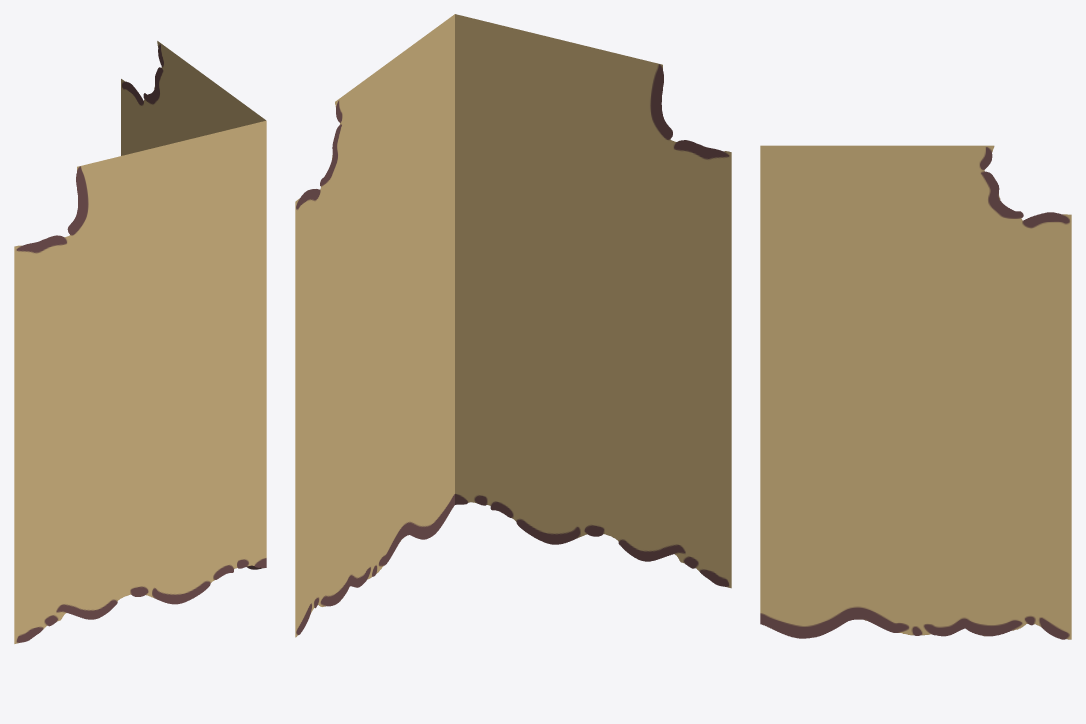
Rendered from Fence_RF_20143_04.fbx.
3 views of the same model, side by side, from view 1: azimuth 30°, elevation 25°; view 2: azimuth 150°, elevation 25°; view 3: azimuth 270°, elevation 25° (orthographic). The views are drawn at different scales.
Parts seen in each view (by area): view 1: Fence_RF_20143_04; view 2: Fence_RF_20143_04; view 3: Fence_RF_20143_04.
Part boxes in pixels (x1,y1,x2,y2): Fence_RF_20143_04: [14, 41, 266, 643]; Fence_RF_20143_04: [295, 14, 731, 637]; Fence_RF_20143_04: [760, 145, 1071, 639].
Size of the model in its own units: 50 by 100 by 50.
